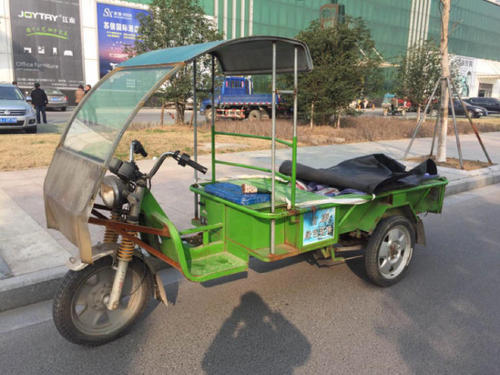tricycle: (49, 32, 445, 344)
